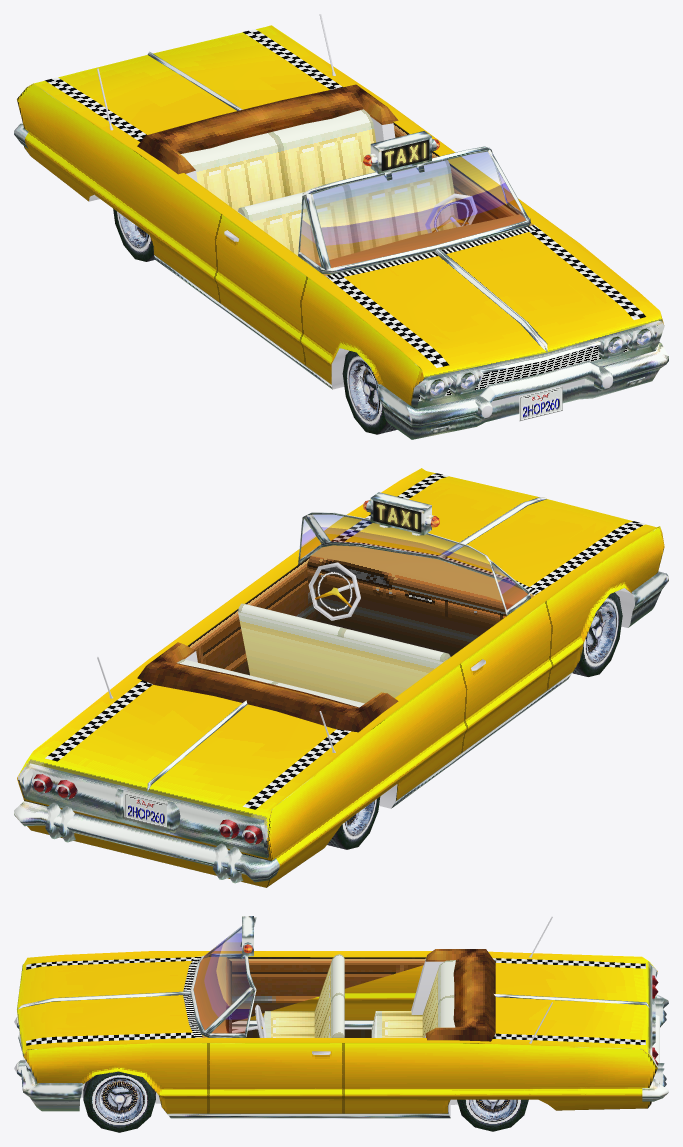
Rendered from cab-bdjoe.glb.
3 views of the same model, one above another, from view 1: azimuth 30°, elevation 25°; view 2: azimuth 150°, elevation 25°; view 3: azimuth 270°, elevation 25° (orthographic). The views are drawn at different scales.
Parts seen in each view (by area): view 1: body, wheel front right, wheel rear right, roof sign; view 2: body, wheel front right, rear bumper, wheel rear right, roof sign; view 3: body, wheel front left, wheel rear left.
Part boxes in pixels (x1,y1,x2,y2): body: (14,14,668,439); wheel front right: (342,351,397,434); wheel rear right: (113,208,155,261); roof sign: (381,139,429,171); body: (14,468,668,887); wheel front right: (572,592,622,676); rear bumper: (31,774,263,845); wheel rear right: (327,796,380,849); roof sign: (373,500,421,532); body: (14,916,668,1118); wheel front left: (83,1071,155,1132); wheel rear left: (457,1099,528,1131).
Size of the model in its own units: 19.18 by 14.62 by 53.51.
Materials: 36 (35 with a texture image).
